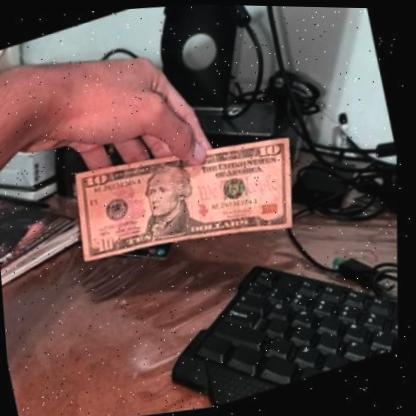dollar_front: (57, 100, 323, 296)
